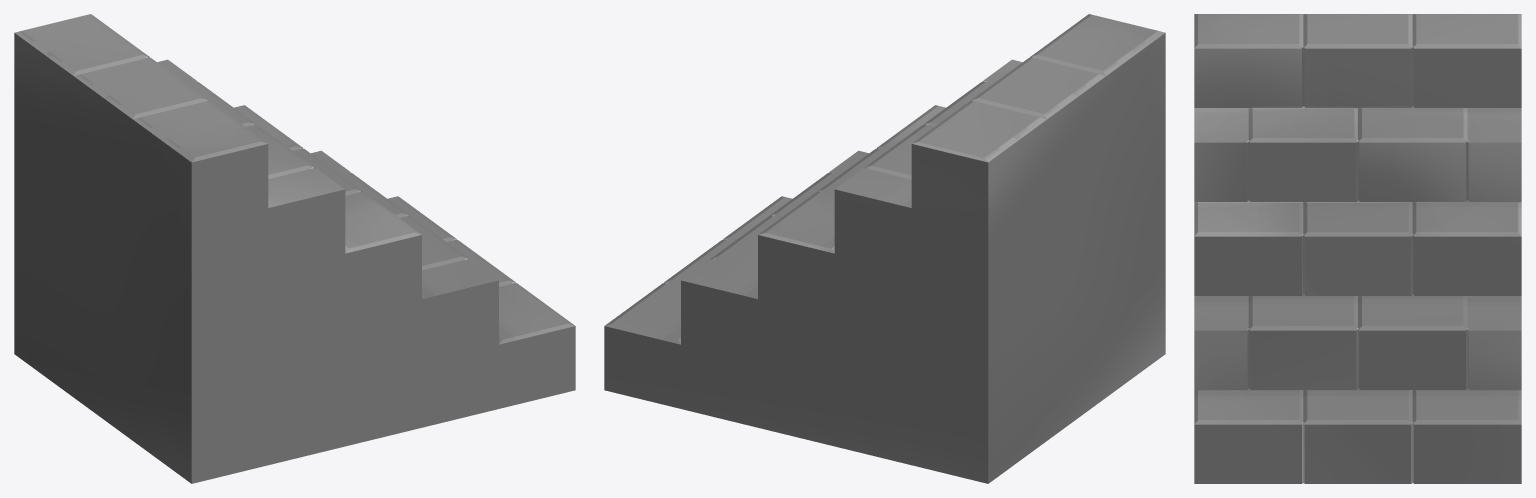
Rendered from stairs.fbx.
3 renders of one model, left to right at view 1: azimuth 30°, elevation 25°; view 2: azimuth 150°, elevation 25°; view 3: azimuth 270°, elevation 25°, orthographic. The views are drawn at different scales.
Visible parts, largest first — view 1: Cube; view 2: Cube; view 3: Cube.
Part boxes in pixels (bbox=[...]): Cube: bbox=[14, 14, 575, 483]; Cube: bbox=[604, 14, 1165, 483]; Cube: bbox=[1194, 14, 1521, 483].
Size of the model in its own units: 250 by 201 by 200.
